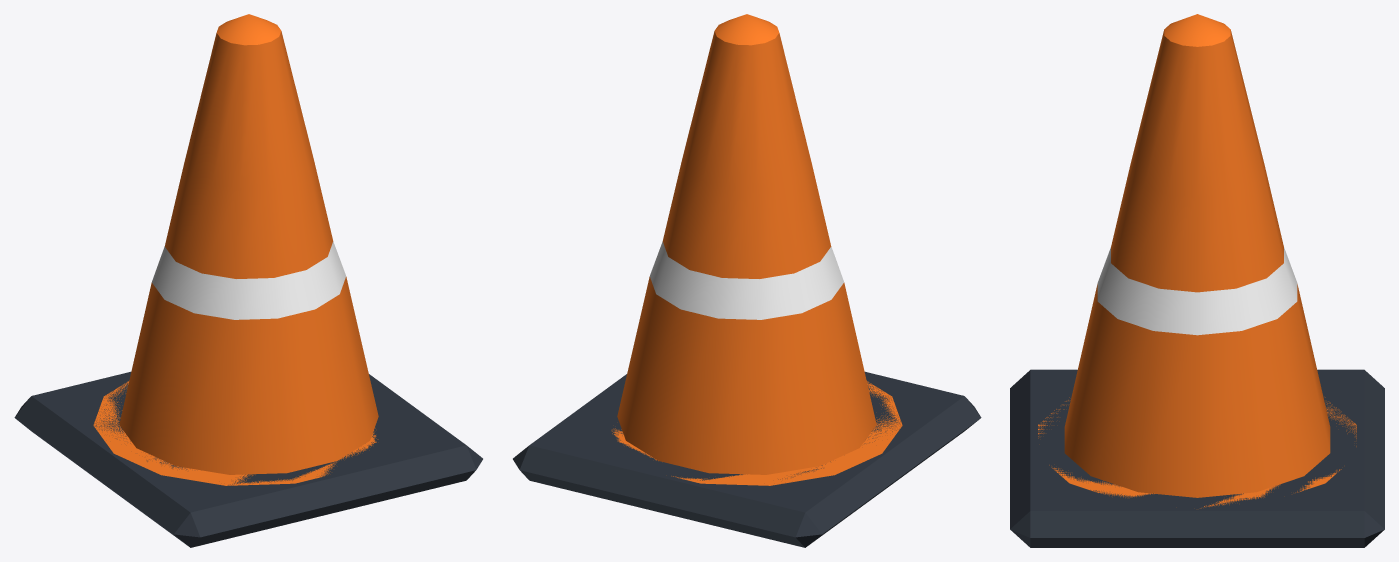
Rendered from item_cones.glb.
3 views of the same model, side by side, from view 1: azimuth 30°, elevation 25°; view 2: azimuth 150°, elevation 25°; view 3: azimuth 270°, elevation 25° (orthographic). The views are drawn at different scales.
Visible parts, largest first — view 1: item_cones; view 2: item_cones; view 3: item_cones.
Boxes of the visible parts, <box> form: item_cones: <box>14,14,482,547</box>; item_cones: <box>513,14,981,547</box>; item_cones: <box>1010,14,1384,547</box>.
Size of the model in its own units: 0.55 by 0.75 by 0.55.
